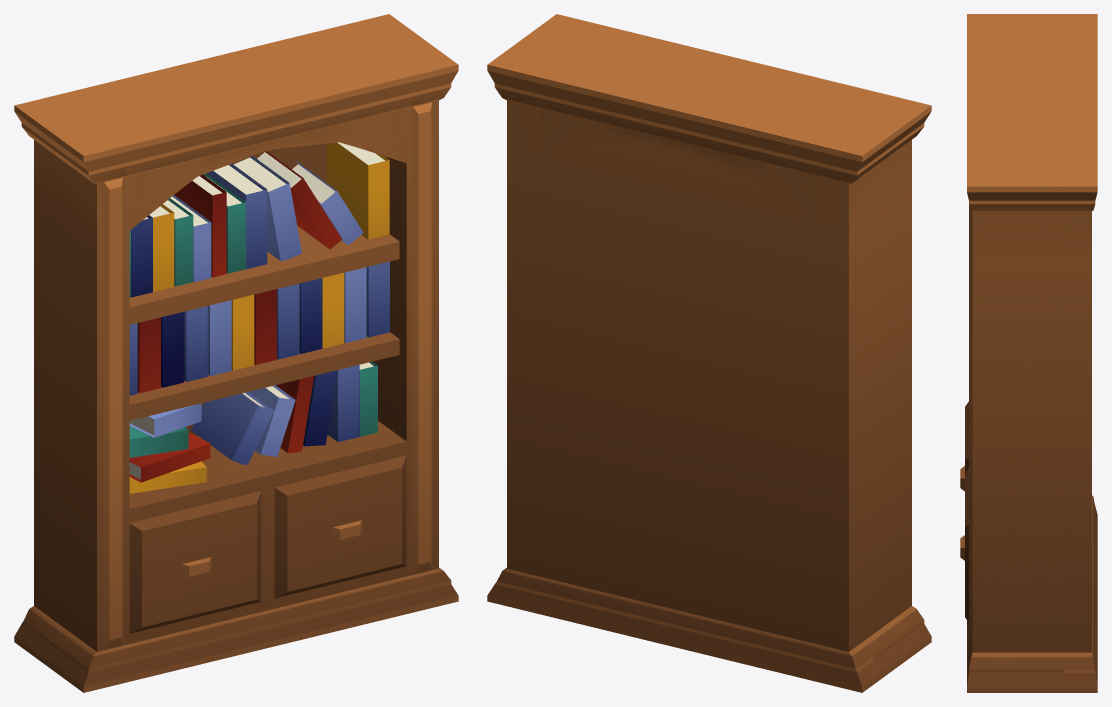
File: Lyhyt_Kirjahylly_Ver1.fbx
The picture shows the model from 3 angles, left to right: view 1: azimuth 30°, elevation 25°; view 2: azimuth 150°, elevation 25°; view 3: azimuth 270°, elevation 25°; orthographic projection. The views are drawn at different scales.
Parts seen in each view (by area): view 1: Kirjahylly_1; view 2: Kirjahylly_1; view 3: Kirjahylly_1.
Part boxes in pixels (<box>): Kirjahylly_1: <box>14,14,458,692</box>; Kirjahylly_1: <box>487,14,931,692</box>; Kirjahylly_1: <box>960,14,1097,692</box>.
Size of the model in its own units: 1.05 by 1.44 by 0.353.
